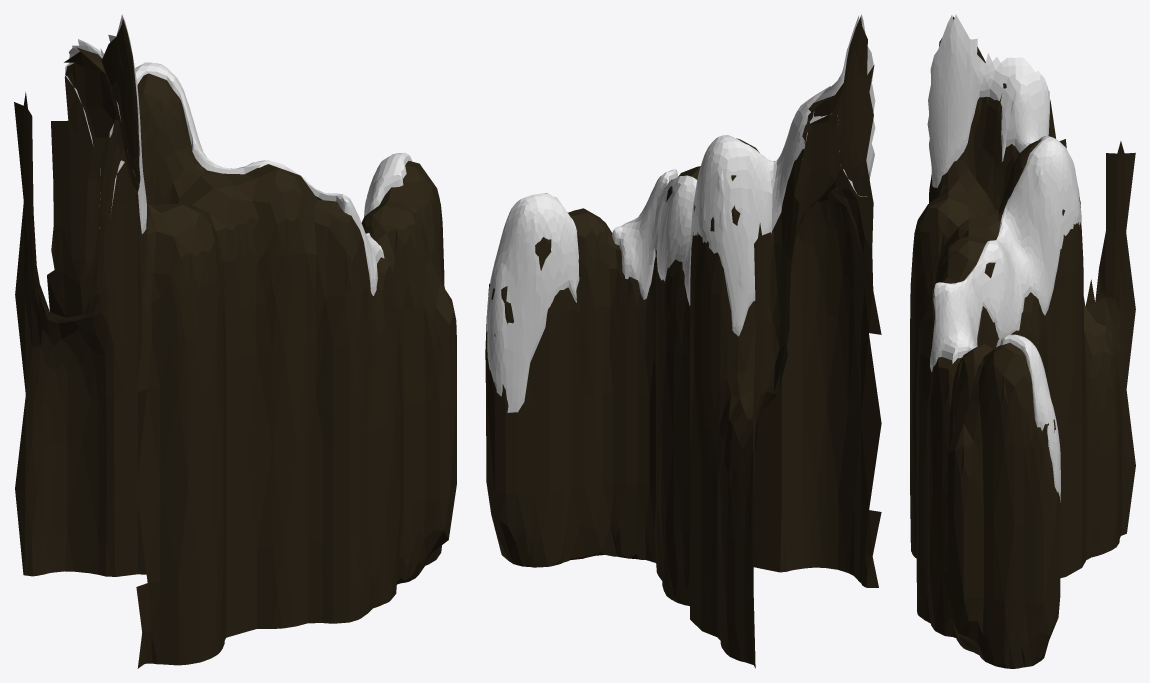
Rendered from Mtn_Corner_SE_M.fbx.
3 renders of one model, left to right at view 1: azimuth 30°, elevation 25°; view 2: azimuth 150°, elevation 25°; view 3: azimuth 270°, elevation 25°, orthographic. The views are drawn at different scales.
Parts seen in each view (by area): view 1: Mtn_Corner_SE_M; view 2: Mtn_Corner_SE_M; view 3: Mtn_Corner_SE_M.
Boxes of the visible parts, left/top/right/bottom form: Mtn_Corner_SE_M: left=14, top=14, right=456, bottom=668; Mtn_Corner_SE_M: left=485, top=14, right=881, bottom=668; Mtn_Corner_SE_M: left=910, top=14, right=1135, bottom=668.
Bounding box in the file's own units: 12865 × 21862 × 8663.
